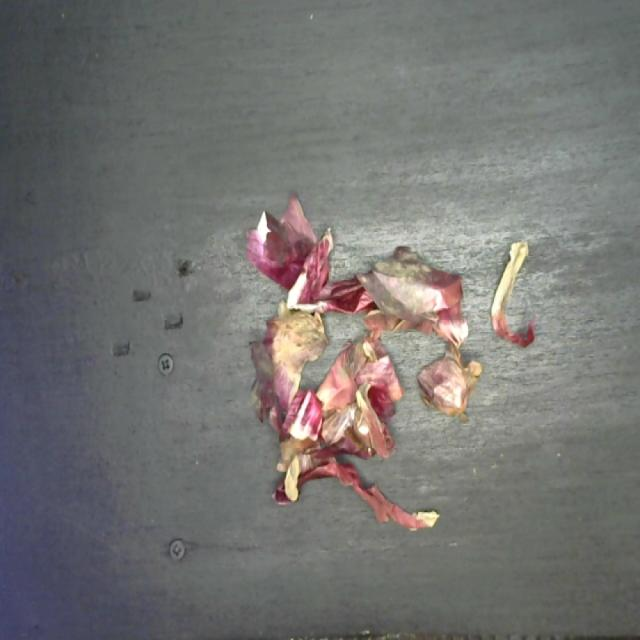biodegradable: (246, 185, 542, 538)
